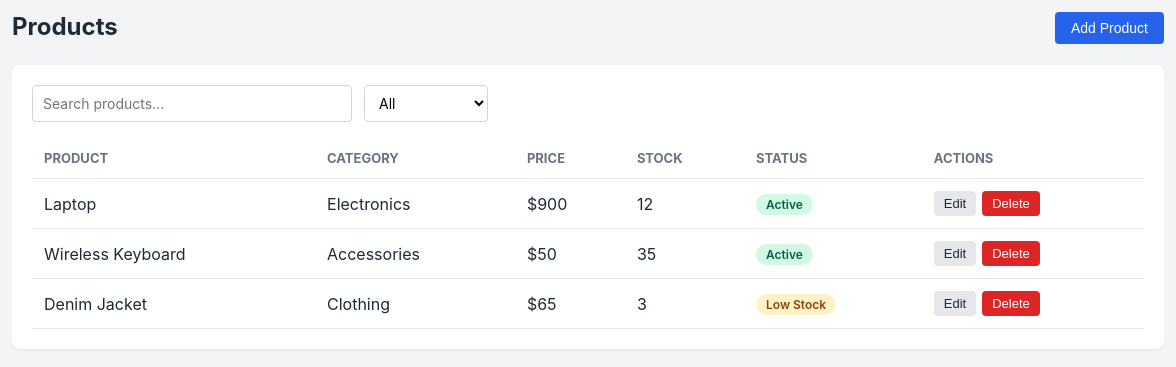
filters products by category
Check: the text "Laptop" is shown, box [32,178,315,228]
Select "Clothing" in the dropdown named "Filter by category" at [426, 104], box [364,85,488,122]
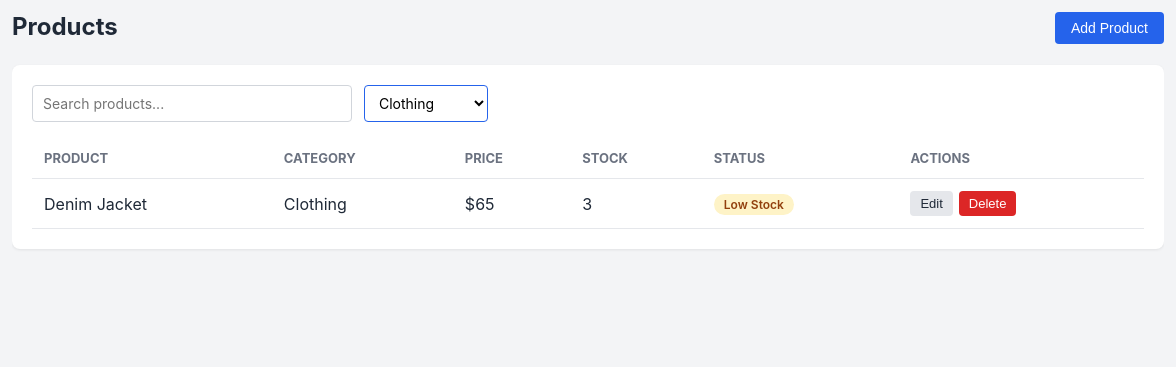
Check: the text "Denim Jacket" is shown, box [32,178,272,228]
Check: the text "Laptop" is gone
